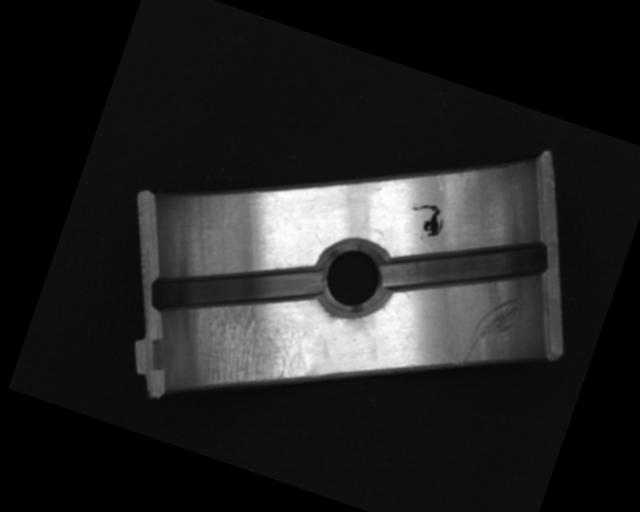blot: (403, 196, 449, 241)
gap: (140, 219, 327, 359), (374, 194, 556, 336)
hole: (308, 231, 398, 323)
nick: (461, 284, 529, 377)
scratch: (192, 296, 326, 417)
